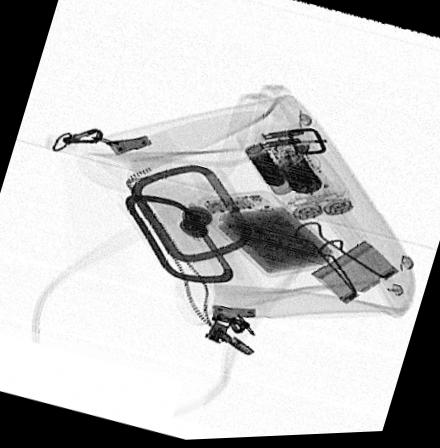Powerbank: (198, 194, 337, 280)
